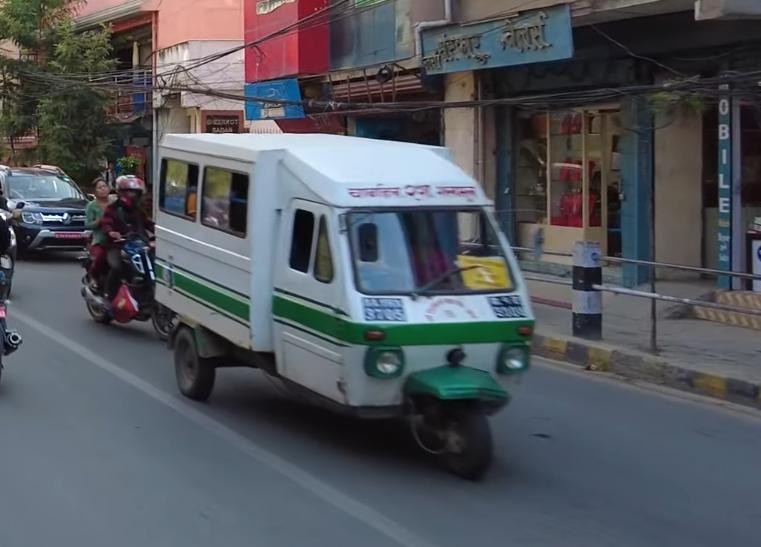bike: (80, 227, 178, 337)
car: (0, 161, 115, 253)
tempo: (143, 123, 531, 491)
